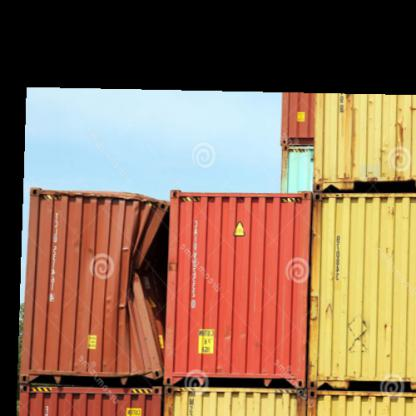Damage: (115, 202, 180, 366), (382, 105, 412, 183), (345, 314, 375, 362)
